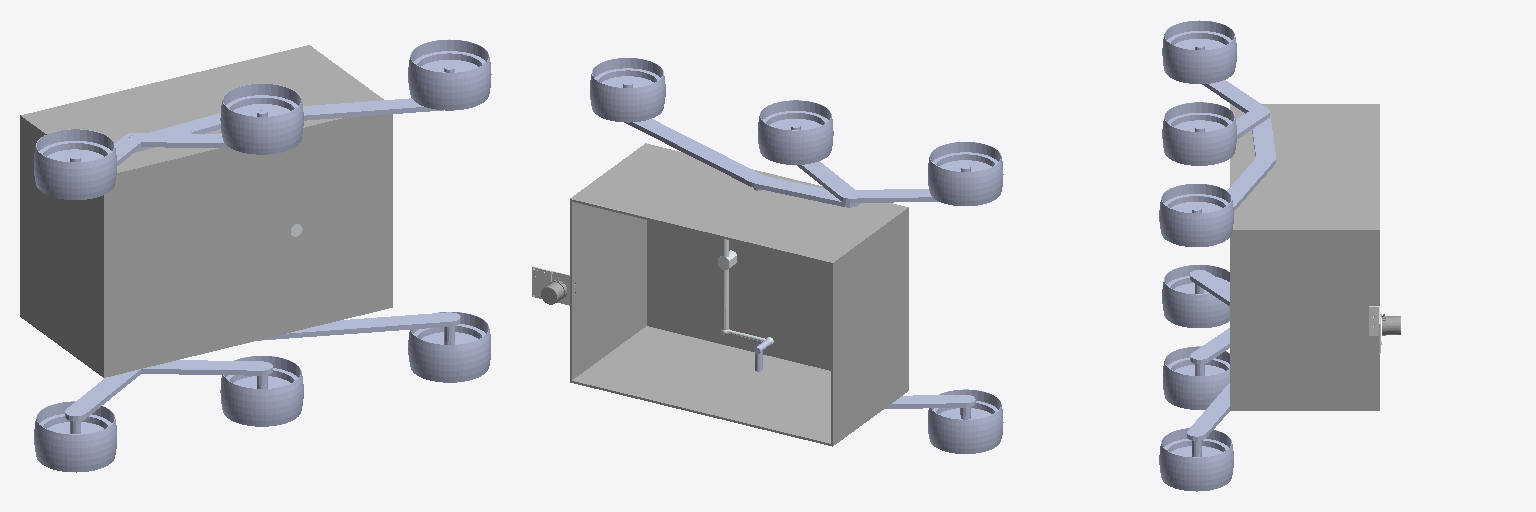
URDF robot description (MarsRoverUpdate):
<?xml version="1.0" encoding="utf-8"?>
<!-- This URDF was automatically created by SolidWorks to URDF Exporter! Originally created by [author] ([email redacted]) 
     Commit Version: 1.5.1-0-g916b5db  Build Version: 1.5.7152.31018
     For more information, please see http://wiki.ros.org/sw_urdf_exporter -->
<robot
  name="MarsRoverUpdate">
  <link
    name="body">
    <inertial>
      <origin
        xyz="-0.000147897244928141 -0.0822271126898098 2.22044604925031E-16"
        rpy="0 0 0" />
      <mass
        value="32.9286570826472" />
      <inertia
        ixx="4.47491142188154"
        ixy="-0.000503480655802212"
        ixz="1.31725687754087E-14"
        iyy="9.29423854790981"
        iyz="7.44971231063994E-16"
        izz="7.39741952054995" />
    </inertial>
    <visual>
      <origin
        xyz="0 0 0"
        rpy="0 0 0" />
      <geometry>
        <mesh
          filename="package://MarsRoverUpdate/meshes/body.STL" />
      </geometry>
      <material
        name="">
        <color
          rgba="0.752941176470588 0.752941176470588 0.752941176470588 1" />
      </material>
    </visual>
    <collision>
      <origin
        xyz="0 0 0"
        rpy="0 0 0" />
      <geometry>
        <mesh
          filename="package://MarsRoverUpdate/meshes/body.STL" />
      </geometry>
    </collision>
  </link>
  <link
    name="DiffBar">
    <inertial>
      <origin
        xyz="7.23369697475107E-10 -0.0223125966605722 3.3729640969149E-08"
        rpy="0 0 0" />
      <mass
        value="1.49170112220708" />
      <inertia
        ixx="0.030385701616174"
        ixy="-4.27358554224649E-11"
        ixz="6.00528612798039E-07"
        iyy="0.0300953010528317"
        iyz="1.87976912026517E-08"
        izz="0.000583955549724061" />
    </inertial>
    <visual>
      <origin
        xyz="0 0 0"
        rpy="0 0 0" />
      <geometry>
        <mesh
          filename="package://MarsRoverUpdate/meshes/DiffBar.STL" />
      </geometry>
      <material
        name="">
        <color
          rgba="0.898039215686275 0.917647058823529 0.929411764705882 1" />
      </material>
    </visual>
    <collision>
      <origin
        xyz="0 0 0"
        rpy="0 0 0" />
      <geometry>
        <mesh
          filename="package://MarsRoverUpdate/meshes/DiffBar.STL" />
      </geometry>
    </collision>
  </link>
  <joint
    name="joint_body_DiffBar"
    type="continuous">
    <origin
      xyz="0.20043 -0.225 0"
      rpy="0 0 0" />
    <parent
      link="body" />
    <child
      link="DiffBar" />
    <axis
      xyz="0 1 0" />
  </joint>
  <link
    name="LeftMainRocker">
    <inertial>
      <origin
        xyz="0.194777234245267 -0.101638011239522 -0.0322190943393932"
        rpy="0 0 0" />
      <mass
        value="2.31659033764537" />
      <inertia
        ixx="0.0253182901443958"
        ixy="0.0763954336660846"
        ixz="0.00562994284708994"
        iyy="0.301511476413955"
        iyz="-0.00212772758361841"
        izz="0.322973812666095" />
    </inertial>
    <visual>
      <origin
        xyz="0 0 0"
        rpy="0 0 0" />
      <geometry>
        <mesh
          filename="package://MarsRoverUpdate/meshes/LeftMainRocker.STL" />
      </geometry>
      <material
        name="">
        <color
          rgba="0.792156862745098 0.819607843137255 0.933333333333333 1" />
      </material>
    </visual>
    <collision>
      <origin
        xyz="0 0 0"
        rpy="0 0 0" />
      <geometry>
        <mesh
          filename="package://MarsRoverUpdate/meshes/LeftMainRocker.STL" />
      </geometry>
    </collision>
  </link>
  <joint
    name="joint_body_LeftMainRocker"
    type="continuous">
    <origin
      xyz="0 -0.155 -0.395"
      rpy="0 0 0" />
    <parent
      link="body" />
    <child
      link="LeftMainRocker" />
    <axis
      xyz="0 0 1" />
  </joint>
  <link
    name="LeftViceRocker">
    <inertial>
      <origin
        xyz="0.00032494 -0.14283 -0.0045778"
        rpy="0 0 0" />
      <mass
        value="1.7019" />
      <inertia
        ixx="0.011641"
        ixy="-0.00023484"
        ixz="1.7935E-06"
        iyy="0.11487"
        iyz="-0.00078835"
        izz="0.12548" />
    </inertial>
    <visual>
      <origin
        xyz="0 0 0"
        rpy="0 0 0" />
      <geometry>
        <mesh
          filename="package://MarsRoverUpdate/meshes/LeftViceRocker.STL" />
      </geometry>
      <material
        name="">
        <color
          rgba="0.79216 0.81961 0.93333 1" />
      </material>
    </visual>
    <collision>
      <origin
        xyz="0 0 0"
        rpy="0 0 0" />
      <geometry>
        <mesh
          filename="package://MarsRoverUpdate/meshes/LeftViceRocker.STL" />
      </geometry>
    </collision>
  </link>
  <joint
    name="joint_LeftMainRocker_LeftViceRocker"
    type="continuous">
    <origin
      xyz="-0.400876620417601 -0.0230717750197726 -0.055"
      rpy="0 0 0" />
    <parent
      link="LeftMainRocker" />
    <child
      link="LeftViceRocker" />
    <axis
      xyz="0 0 1" />
  </joint>
  <link
    name="LeftMiddleWheel">
    <inertial>
      <origin
        xyz="0 -2.77555756156289E-17 1.66533453693773E-16"
        rpy="0 0 0" />
      <mass
        value="2.46800319485063" />
      <inertia
        ixx="0.0218761505445032"
        ixy="3.03707413123473E-18"
        ixz="-4.22949148312984E-19"
        iyy="0.0218761505445032"
        iyz="2.65710760029735E-18"
        izz="0.0405258063947127" />
    </inertial>
    <visual>
      <origin
        xyz="0 0 0"
        rpy="0 0 0" />
      <geometry>
        <mesh
          filename="package://MarsRoverUpdate/meshes/LeftMiddleWheel.STL" />
      </geometry>
      <material
        name="">
        <color
          rgba="0.792156862745098 0.819607843137255 0.933333333333333 1" />
      </material>
    </visual>
    <collision>
      <origin
        xyz="0 0 0"
        rpy="0 0 0" />
      <geometry>
        <mesh
          filename="package://MarsRoverUpdate/meshes/LeftMiddleWheel.STL" />
      </geometry>
    </collision>
  </link>
  <joint
    name="joint_LeftViceRocker_LeftMiddleWheel"
    type="continuous">
    <origin
      xyz="0.388042903492424 -0.243132538853131 -0.09"
      rpy="0 0 0" />
    <parent
      link="LeftViceRocker" />
    <child
      link="LeftMiddleWheel" />
    <axis
      xyz="0 0 -1" />
  </joint>
  <link
    name="LeftRearWheel">
    <inertial>
      <origin
        xyz="-5.55111512312578E-17 0 5.55111512312578E-17"
        rpy="0 0 0" />
      <mass
        value="2.46800319485063" />
      <inertia
        ixx="0.0218761505445032"
        ixy="-1.08802512554985E-17"
        ixz="-2.3543509061354E-18"
        iyy="0.0218761505445032"
        iyz="3.3562915632501E-18"
        izz="0.0405258063947131" />
    </inertial>
    <visual>
      <origin
        xyz="0 0 0"
        rpy="0 0 0" />
      <geometry>
        <mesh
          filename="package://MarsRoverUpdate/meshes/LeftRearWheel.STL" />
      </geometry>
      <material
        name="">
        <color
          rgba="0.792156862745098 0.819607843137255 0.933333333333333 1" />
      </material>
    </visual>
    <collision>
      <origin
        xyz="0 0 0"
        rpy="0 0 0" />
      <geometry>
        <mesh
          filename="package://MarsRoverUpdate/meshes/LeftRearWheel.STL" />
      </geometry>
    </collision>
  </link>
  <joint
    name="joit_LeftViceRocker_LeftRearWheel"
    type="continuous">
    <origin
      xyz="-0.386932640288026 -0.24489560690167 -0.09"
      rpy="0 0 0" />
    <parent
      link="LeftViceRocker" />
    <child
      link="LeftRearWheel" />
    <axis
      xyz="0 0 -1" />
  </joint>
  <link
    name="LeftFrontWheel">
    <inertial>
      <origin
        xyz="0 1.1102E-16 0"
        rpy="0 0 0" />
      <mass
        value="2.468" />
      <inertia
        ixx="0.021876"
        ixy="1.1198E-17"
        ixz="1.5707E-18"
        iyy="0.021876"
        iyz="1.1726E-18"
        izz="0.040526" />
    </inertial>
    <visual>
      <origin
        xyz="0 0 0"
        rpy="0 0 0" />
      <geometry>
        <mesh
          filename="package://MarsRoverUpdate/meshes/LeftFrontWheel.STL" />
      </geometry>
      <material
        name="">
        <color
          rgba="0.79216 0.81961 0.93333 1" />
      </material>
    </visual>
    <collision>
      <origin
        xyz="0 0 0"
        rpy="0 0 0" />
      <geometry>
        <mesh
          filename="package://MarsRoverUpdate/meshes/LeftFrontWheel.STL" />
      </geometry>
    </collision>
  </link>
  <joint
    name="joint_LeftMainRocker_LeftFrontWheel"
    type="continuous">
    <origin
      xyz="0.75893 -0.27932 -0.145"
      rpy="0 0 0" />
    <parent
      link="LeftMainRocker" />
    <child
      link="LeftFrontWheel" />
    <axis
      xyz="0 0 -1" />
  </joint>
  <link
    name="LeftDiffBarLink">
    <inertial>
      <origin
        xyz="0.100844514587008 0 0"
        rpy="0 0 0" />
      <mass
        value="0.200751056745894" />
      <inertia
        ixx="1.70941578635533E-05"
        ixy="1.00926628658576E-19"
        ixz="4.58491019961146E-19"
        iyy="0.00141233412869607"
        iyz="1.74566677143738E-10"
        izz="0.00141233526669787" />
    </inertial>
    <visual>
      <origin
        xyz="0 0 0"
        rpy="0 0 0" />
      <geometry>
        <mesh
          filename="package://MarsRoverUpdate/meshes/LeftDiffBarLink.STL" />
      </geometry>
      <material
        name="">
        <color
          rgba="0.898039215686275 0.917647058823529 0.929411764705882 1" />
      </material>
    </visual>
    <collision>
      <origin
        xyz="0 0 0"
        rpy="0 0 0" />
      <geometry>
        <mesh
          filename="package://MarsRoverUpdate/meshes/LeftDiffBarLink.STL" />
      </geometry>
    </collision>
  </link>
  <joint
    name="joint_LeftMainRocker_DiffBarLink"
    type="continuous">
    <origin
      xyz="-0.000408465753599208 -0.0849988768075565 0.0949999999997425"
      rpy="0 0 0" />
    <parent
      link="LeftMainRocker" />
    <child
      link="LeftDiffBarLink" />
    <axis
      xyz="1 0 0" />
  </joint>
  <link
    name="RightMainRocker">
    <inertial>
      <origin
        xyz="0.19476 -0.10167 0.032219"
        rpy="0 0 0" />
      <mass
        value="2.3166" />
      <inertia
        ixx="0.02534"
        ixy="0.076435"
        ixz="-0.0056295"
        iyy="0.30149"
        iyz="0.0021285"
        izz="0.32297" />
    </inertial>
    <visual>
      <origin
        xyz="0 0 0"
        rpy="0 0 0" />
      <geometry>
        <mesh
          filename="package://MarsRoverUpdate/meshes/RightMainRocker.STL" />
      </geometry>
      <material
        name="">
        <color
          rgba="0.79216 0.81961 0.93333 1" />
      </material>
    </visual>
    <collision>
      <origin
        xyz="0 0 0"
        rpy="0 0 0" />
      <geometry>
        <mesh
          filename="package://MarsRoverUpdate/meshes/RightMainRocker.STL" />
      </geometry>
    </collision>
  </link>
  <joint
    name="joint_body_RightMainRocker"
    type="continuous">
    <origin
      xyz="0 -0.155 0.394999999999998"
      rpy="0 0 0" />
    <parent
      link="body" />
    <child
      link="RightMainRocker" />
    <axis
      xyz="0 0 1" />
  </joint>
  <link
    name="RightViceRocker">
    <inertial>
      <origin
        xyz="-3.74727935245137E-05 -0.142829300218082 0.00457781208829178"
        rpy="0 0 0" />
      <mass
        value="1.70193743881046" />
      <inertia
        ixx="0.0116402353185612"
        ixy="2.70826203635551E-05"
        ixz="2.06832199194116E-07"
        iyy="0.114866898839305"
        iyz="0.000788350573710643"
        izz="0.1254823143192" />
    </inertial>
    <visual>
      <origin
        xyz="0 0 0"
        rpy="0 0 0" />
      <geometry>
        <mesh
          filename="package://MarsRoverUpdate/meshes/RightViceRocker.STL" />
      </geometry>
      <material
        name="">
        <color
          rgba="0.792156862745098 0.819607843137255 0.933333333333333 1" />
      </material>
    </visual>
    <collision>
      <origin
        xyz="0 0 0"
        rpy="0 0 0" />
      <geometry>
        <mesh
          filename="package://MarsRoverUpdate/meshes/RightViceRocker.STL" />
      </geometry>
    </collision>
  </link>
  <joint
    name="joint_RightMainRocker_RightViceRocker"
    type="continuous">
    <origin
      xyz="-0.400879900099439 -0.0230147191219829 0.0550000000000019"
      rpy="0 0 0" />
    <parent
      link="RightMainRocker" />
    <child
      link="RightViceRocker" />
    <axis
      xyz="0 0 1" />
  </joint>
  <link
    name="RightMiddleWheel">
    <inertial>
      <origin
        xyz="5.55111512312578E-17 2.77555756156289E-17 4.44089209850063E-16"
        rpy="0 0 0" />
      <mass
        value="2.46800319485063" />
      <inertia
        ixx="0.0218761505445029"
        ixy="-1.9031573010273E-18"
        ixz="-2.39487588733922E-19"
        iyy="0.0218761505445029"
        iyz="-7.04547948608855E-19"
        izz="0.0405258063947124" />
    </inertial>
    <visual>
      <origin
        xyz="0 0 0"
        rpy="0 0 0" />
      <geometry>
        <mesh
          filename="package://MarsRoverUpdate/meshes/RightMiddleWheel.STL" />
      </geometry>
      <material
        name="">
        <color
          rgba="0.792156862745098 0.819607843137255 0.933333333333333 1" />
      </material>
    </visual>
    <collision>
      <origin
        xyz="0 0 0"
        rpy="0 0 0" />
      <geometry>
        <mesh
          filename="package://MarsRoverUpdate/meshes/RightMiddleWheel.STL" />
      </geometry>
    </collision>
  </link>
  <joint
    name="joint_RightViceRocker_RightMiddleWheel"
    type="continuous">
    <origin
      xyz="0.387424741433502 -0.244116357758312 0.0899999999999999"
      rpy="0 0 0" />
    <parent
      link="RightViceRocker" />
    <child
      link="RightMiddleWheel" />
    <axis
      xyz="0 0 1" />
  </joint>
  <link
    name="RightRearWheel">
    <inertial>
      <origin
        xyz="-5.5511E-17 0 2.2204E-16"
        rpy="0 0 0" />
      <mass
        value="2.468" />
      <inertia
        ixx="0.021876"
        ixy="5.5589E-18"
        ixz="-3.2913E-18"
        iyy="0.021876"
        iyz="1.637E-18"
        izz="0.040526" />
    </inertial>
    <visual>
      <origin
        xyz="0 0 0"
        rpy="0 0 0" />
      <geometry>
        <mesh
          filename="package://MarsRoverUpdate/meshes/RightRearWheel.STL" />
      </geometry>
      <material
        name="">
        <color
          rgba="0.79216 0.81961 0.93333 1" />
      </material>
    </visual>
    <collision>
      <origin
        xyz="0 0 0"
        rpy="0 0 0" />
      <geometry>
        <mesh
          filename="package://MarsRoverUpdate/meshes/RightRearWheel.STL" />
      </geometry>
    </collision>
  </link>
  <joint
    name="joint_RightViceRocker_RightRearWheel"
    type="continuous">
    <origin
      xyz="-0.38755 -0.24391 0.09"
      rpy="0 0 0" />
    <parent
      link="RightViceRocker" />
    <child
      link="RightRearWheel" />
    <axis
      xyz="0 0 1" />
  </joint>
  <link
    name="RightFrontWheel">
    <inertial>
      <origin
        xyz="2.22044604925031E-16 2.77555756156289E-17 2.22044604925031E-16"
        rpy="0 0 0" />
      <mass
        value="2.46800319485063" />
      <inertia
        ixx="0.0218761505445032"
        ixy="-6.61440556312683E-18"
        ixz="-6.72132346636618E-19"
        iyy="0.0218761505445033"
        iyz="6.45026917654287E-18"
        izz="0.0405258063947131" />
    </inertial>
    <visual>
      <origin
        xyz="0 0 0"
        rpy="0 0 0" />
      <geometry>
        <mesh
          filename="package://MarsRoverUpdate/meshes/RightFrontWheel.STL" />
      </geometry>
      <material
        name="">
        <color
          rgba="0.792156862745098 0.819607843137255 0.933333333333333 1" />
      </material>
    </visual>
    <collision>
      <origin
        xyz="0 0 0"
        rpy="0 0 0" />
      <geometry>
        <mesh
          filename="package://MarsRoverUpdate/meshes/RightFrontWheel.STL" />
      </geometry>
    </collision>
  </link>
  <joint
    name="joint_LeftMainRocker_RightFrontWheel"
    type="continuous">
    <origin
      xyz="0.758889946420569 -0.27943109923877 0.145000000000002"
      rpy="0 0 0" />
    <parent
      link="RightMainRocker" />
    <child
      link="RightFrontWheel" />
    <axis
      xyz="0 0 1" />
  </joint>
  <link
    name="RightDiffBarLink">
    <inertial>
      <origin
        xyz="0.10084 0 0"
        rpy="0 0 0" />
      <mass
        value="0.20075" />
      <inertia
        ixx="1.7094E-05"
        ixy="1.1135E-19"
        ixz="-5.3241E-19"
        iyy="0.0014123"
        iyz="-2.614E-10"
        izz="0.0014123" />
    </inertial>
    <visual>
      <origin
        xyz="0 0 0"
        rpy="0 0 0" />
      <geometry>
        <mesh
          filename="package://MarsRoverUpdate/meshes/RightDiffBarLink.STL" />
      </geometry>
      <material
        name="">
        <color
          rgba="0.89804 0.91765 0.92941 1" />
      </material>
    </visual>
    <collision>
      <origin
        xyz="0 0 0"
        rpy="0 0 0" />
      <geometry>
        <mesh
          filename="package://MarsRoverUpdate/meshes/RightDiffBarLink.STL" />
      </geometry>
    </collision>
  </link>
  <joint
    name="joint_RightMainRocker_DiffBarLink"
    type="continuous">
    <origin
      xyz="-0.000420563414470776 -0.0849989382666962 -0.0949999999997404"
      rpy="0 0 0" />
    <parent
      link="RightMainRocker" />
    <child
      link="RightDiffBarLink" />
    <axis
      xyz="1 0 0" />
  </joint>
  <link
    name="LiDARBodyCon">
    <inertial>
      <origin
        xyz="-0.014583 -0.0040905 0"
        rpy="0 0 0" />
      <mass
        value="0.2293" />
      <inertia
        ixx="0.00036659"
        ixy="-4.7613E-05"
        ixz="5.4848E-20"
        iyy="0.00053318"
        iyz="2.4808E-20"
        izz="0.00023526" />
    </inertial>
    <visual>
      <origin
        xyz="0 0 0"
        rpy="0 0 0" />
      <geometry>
        <mesh
          filename="package://MarsRoverUpdate/meshes/LiDARBodyCon.STL" />
      </geometry>
      <material
        name="">
        <color
          rgba="0.89804 0.91765 0.92941 1" />
      </material>
    </visual>
    <collision>
      <origin
        xyz="0 0 0"
        rpy="0 0 0" />
      <geometry>
        <mesh
          filename="package://MarsRoverUpdate/meshes/LiDARBodyCon.STL" />
      </geometry>
    </collision>
  </link>
  <joint
    name="joint_body_LiDARCon"
    type="fixed">
    <origin
      xyz="0.6475 0.295 0"
      rpy="0 0 0" />
    <parent
      link="body" />
    <child
      link="LiDARBodyCon" />
    <axis
      xyz="0 0 0" />
  </joint>
  <link
    name="LiDARSupport">
    <inertial>
      <origin
        xyz="-0.03997 -7.7716E-16 1.1102E-16"
        rpy="0 0 0" />
      <mass
        value="0.23629" />
      <inertia
        ixx="0.00032757"
        ixy="-1.0808E-21"
        ixz="1.1167E-19"
        iyy="0.00047027"
        iyz="1.3126E-21"
        izz="0.00014519" />
    </inertial>
    <visual>
      <origin
        xyz="0 0 0"
        rpy="0 0 0" />
      <geometry>
        <mesh
          filename="package://MarsRoverUpdate/meshes/LiDARSupport.STL" />
      </geometry>
      <material
        name="">
        <color
          rgba="0.89804 0.91765 0.92941 1" />
      </material>
    </visual>
    <collision>
      <origin
        xyz="0 0 0"
        rpy="0 0 0" />
      <geometry>
        <mesh
          filename="package://MarsRoverUpdate/meshes/LiDARSupport.STL" />
      </geometry>
    </collision>
  </link>
  <joint
    name="joint_LiDARBodyCon_LiDARSupport"
    type="continuous">
    <origin
      xyz="0.035 0.009 0"
      rpy="0 0 0" />
    <parent
      link="LiDARBodyCon" />
    <child
      link="LiDARSupport" />
    <axis
      xyz="0 0 -1" />
    <limit
      lower="0"
      upper="0"
      effort="0"
      velocity="0" />
  </joint>
  <link
    name="LiDAR">
    <inertial>
      <origin
        xyz="9.4172E-09 -0.012924 0.00012666"
        rpy="0 0 0" />
      <mass
        value="0.47584" />
      <inertia
        ixx="0.00040186"
        ixy="1.5748E-10"
        ixz="-1.4024E-10"
        iyy="0.0003397"
        iyz="1.3527E-06"
        izz="0.00040759" />
    </inertial>
    <visual>
      <origin
        xyz="0 0 0"
        rpy="0 0 0" />
      <geometry>
        <mesh
          filename="package://MarsRoverUpdate/meshes/LiDAR.STL" />
      </geometry>
      <material
        name="">
        <color
          rgba="0.69804 0.69804 0.69804 1" />
      </material>
    </visual>
    <collision>
      <origin
        xyz="0 0 0"
        rpy="0 0 0" />
      <geometry>
        <mesh
          filename="package://MarsRoverUpdate/meshes/LiDAR.STL" />
      </geometry>
    </collision>
  </link>
  <joint
    name="joint_LiDARSupport_LiDAR"
    type="fixed">
    <origin
      xyz="-0.0374999999999714 0.0543999999999993 0"
      rpy="0 0 0" />
    <parent
      link="LiDARSupport" />
    <child
      link="LiDAR" />
    <axis
      xyz="0 0 0" />
  </joint>
</robot>

--- What the picture shows (computed from the rendered views, not written in the file) ---
The picture shows the robot from 3 angles, left to right: view 1: azimuth 30°, elevation 25°; view 2: azimuth 150°, elevation 25°; view 3: azimuth 270°, elevation 25°; orthographic projection.
Robot: MarsRoverUpdate — 17 links, 16 joints (14 continuous, 2 fixed); root link body; default pose: all joints at 0.
Visible links, largest first — view 1: body, RightMiddleWheel, RightRearWheel, RightFrontWheel, LeftRearWheel, LeftMiddleWheel, LeftFrontWheel, LeftViceRocker, RightMainRocker, LeftMainRocker, RightViceRocker; view 2: body, RightMiddleWheel, RightFrontWheel, RightRearWheel, LeftRearWheel, RightMainRocker, RightViceRocker, LeftViceRocker, DiffBar; view 3: body, RightMiddleWheel, RightFrontWheel, RightRearWheel, LeftFrontWheel, LeftRearWheel, LeftMiddleWheel, RightMainRocker, LeftViceRocker, RightViceRocker, LeftMainRocker.
Boxes of the visible links, x1,y1,x2,y2 form: body: (20,45,392,377); RightMiddleWheel: (220,84,303,154); RightRearWheel: (34,129,116,199); RightFrontWheel: (408,39,491,110); LeftRearWheel: (34,401,116,472); LeftMiddleWheel: (220,356,303,426); LeftFrontWheel: (408,312,490,382); LeftViceRocker: (65,360,272,431); RightMainRocker: (129,66,452,151); LeftMainRocker: (258,312,460,341); RightViceRocker: (73,110,264,165); body: (570,143,908,446); RightMiddleWheel: (758,100,833,164); RightFrontWheel: (590,58,665,122); RightRearWheel: (928,142,1003,205); LeftRearWheel: (928,389,1003,453); RightMainRocker: (624,82,859,207); RightViceRocker: (793,125,967,202); LeftViceRocker: (885,395,975,416); DiffBar: (718,238,736,329); body: (1230,104,1379,410); RightMiddleWheel: (1162,102,1236,165); RightFrontWheel: (1159,184,1233,246); RightRearWheel: (1162,20,1236,83); LeftFrontWheel: (1159,428,1233,491); LeftRearWheel: (1162,265,1229,327); LeftMiddleWheel: (1163,346,1229,409); RightMainRocker: (1194,109,1275,210); LeftViceRocker: (1190,270,1229,373); RightViceRocker: (1197,45,1269,138); LeftMainRocker: (1187,383,1229,454).
Size in the robot's own frame: 1.85 by 0.9684 by 1.23 metres.
Meshes: 17 distinct files referenced, 17 mesh visuals loaded (17 binary STL).